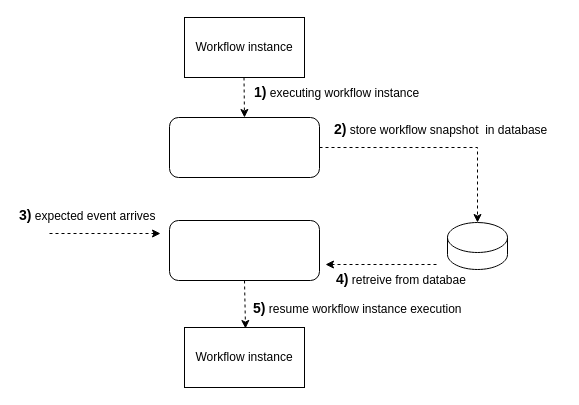
Image size: 579x405. Some labels were removed from this diagram. The shapes that lost their labels are listed below. From the top down, each one's centre as x and y in pixels, then its label:
[244,147]: Wait for an event state reached
[244,250]: Process the expected event
